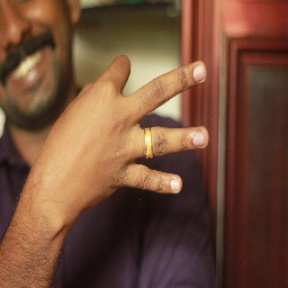K: (41, 51, 211, 201)
